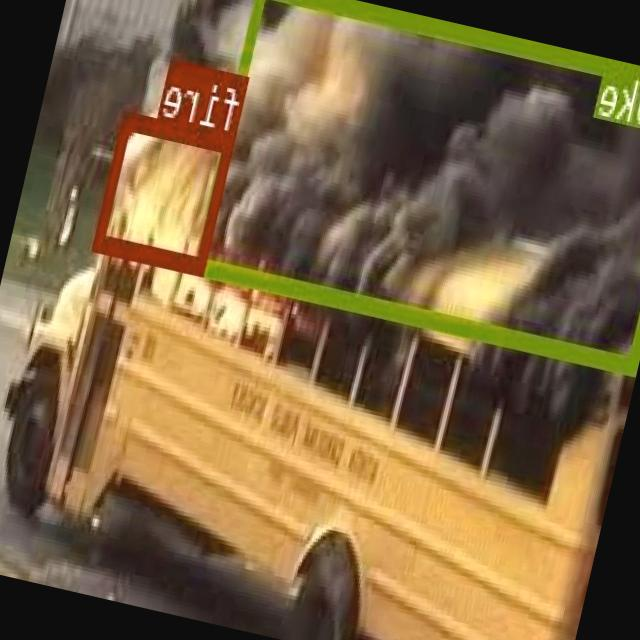fire: (94, 109, 236, 272)
smoke: (195, 0, 640, 373)
